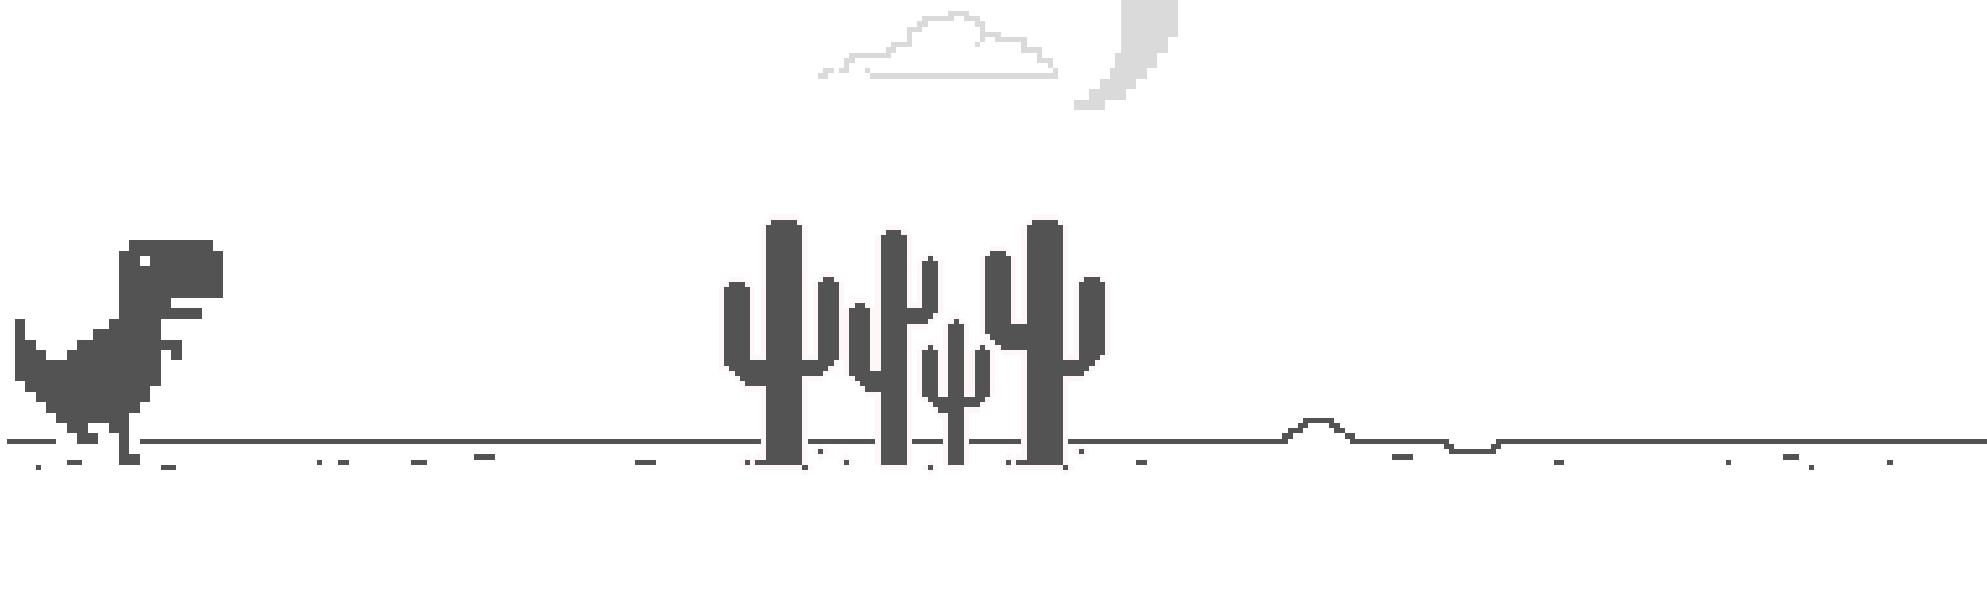6: (6, 232, 231, 476)
pterodactyl: (719, 215, 1111, 481)
